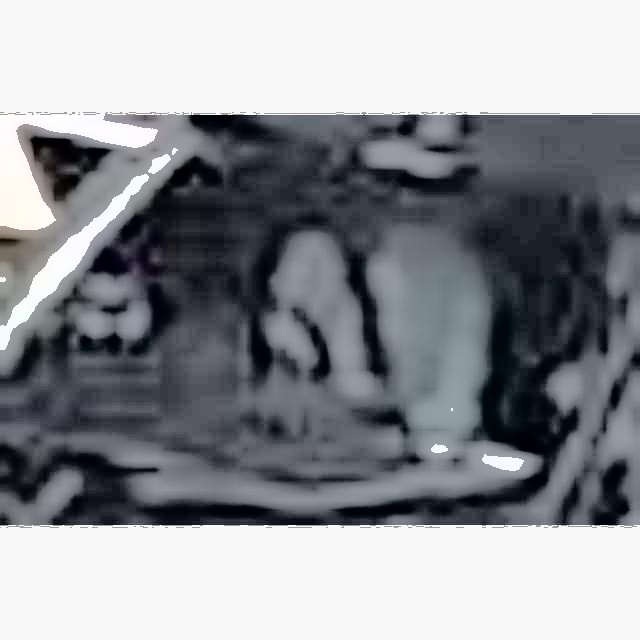pakai: (220, 195, 510, 445)
